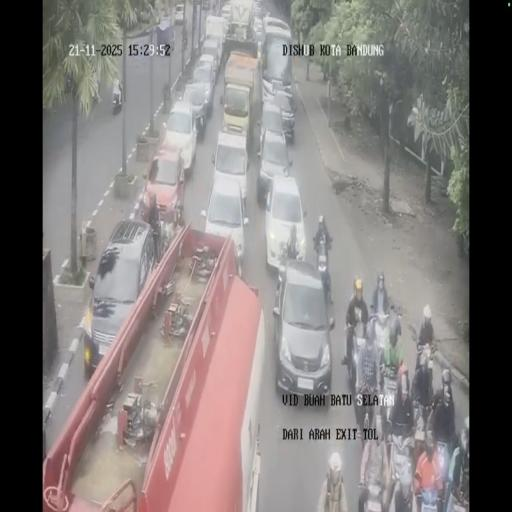car: (86, 218, 160, 372), (273, 259, 332, 401), (142, 144, 187, 222), (210, 128, 250, 212), (257, 124, 291, 200), (179, 84, 209, 141), (262, 71, 292, 111), (200, 37, 222, 73), (252, 14, 264, 45), (220, 2, 232, 26), (174, 3, 184, 25)
motorcycle: (379, 358, 403, 444), (427, 434, 452, 506), (313, 234, 333, 303), (370, 305, 392, 358), (413, 334, 435, 381), (112, 87, 122, 114), (182, 26, 188, 49)
truck: (222, 52, 260, 144), (262, 16, 292, 74), (202, 0, 210, 10)
